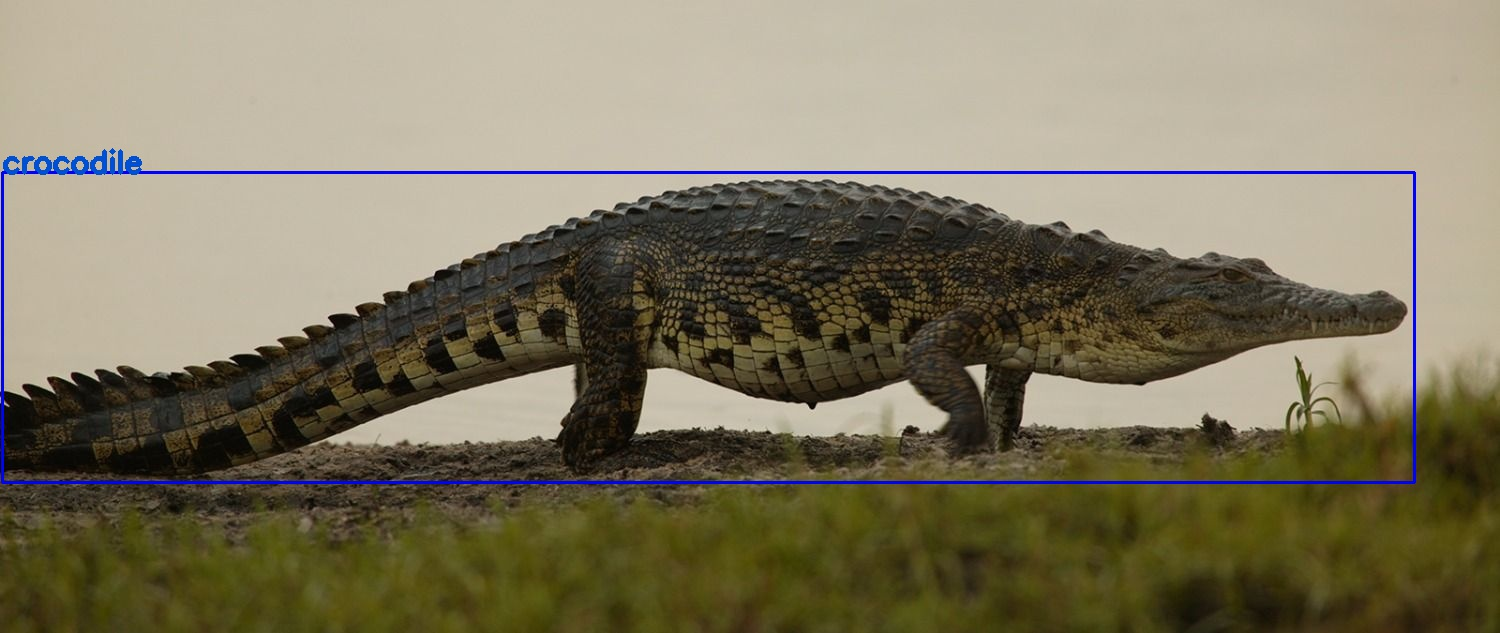crocodile: (2, 172, 1413, 482)
